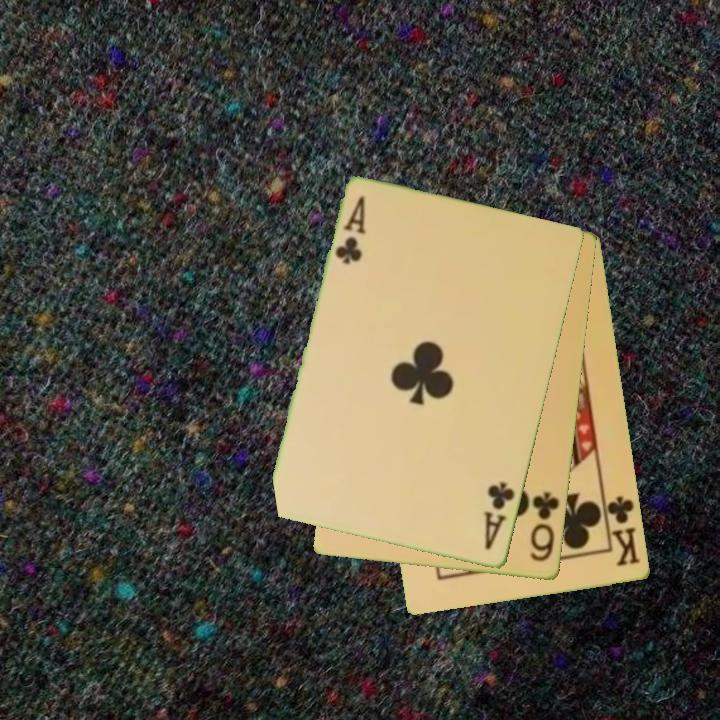6c: (526, 488, 563, 565)
Ac: (332, 193, 370, 269), (480, 479, 518, 554)
Kc: (600, 492, 644, 570)
